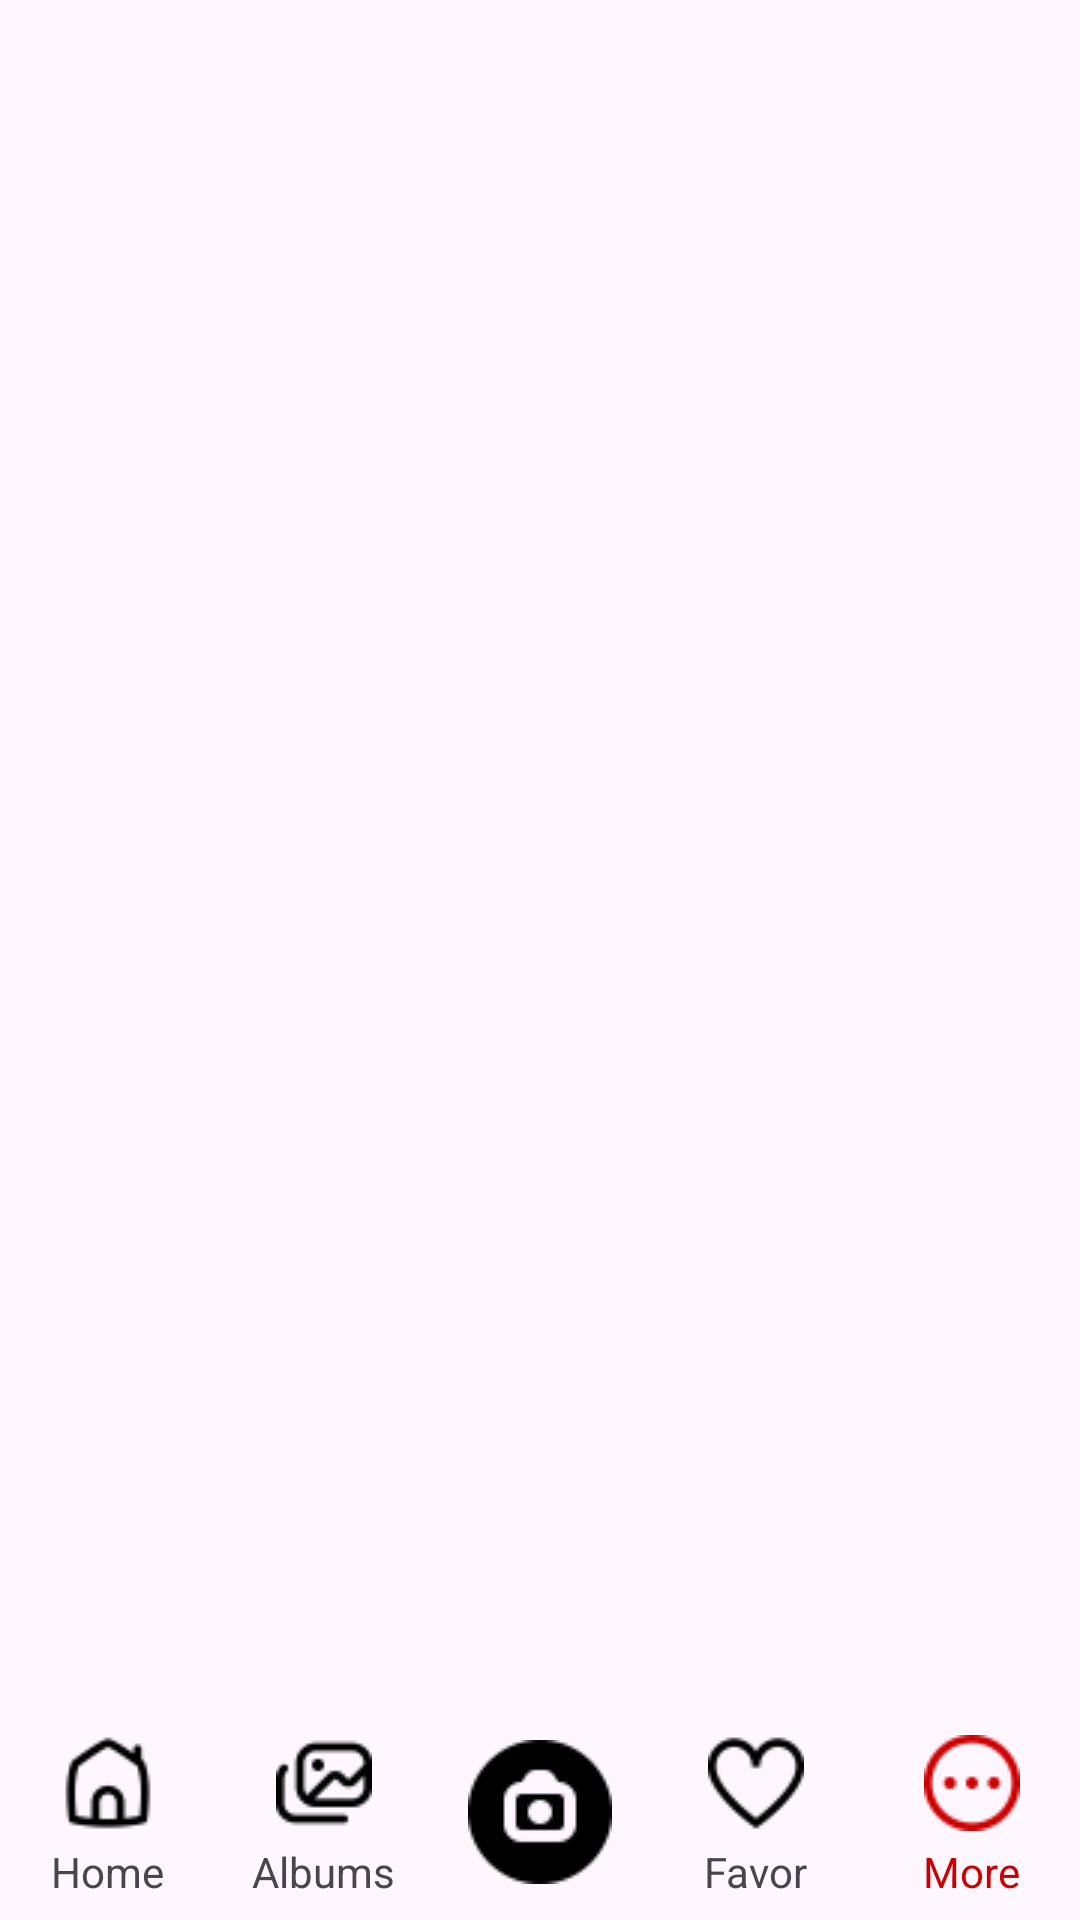

Point at icon controls on the screen. Image size 1080px×1920px, points as [x,y].
camera: [540,1812]
